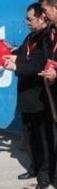boots: (16, 169, 36, 177), (0, 160, 12, 171)
hard-hat: (0, 61, 12, 87)
